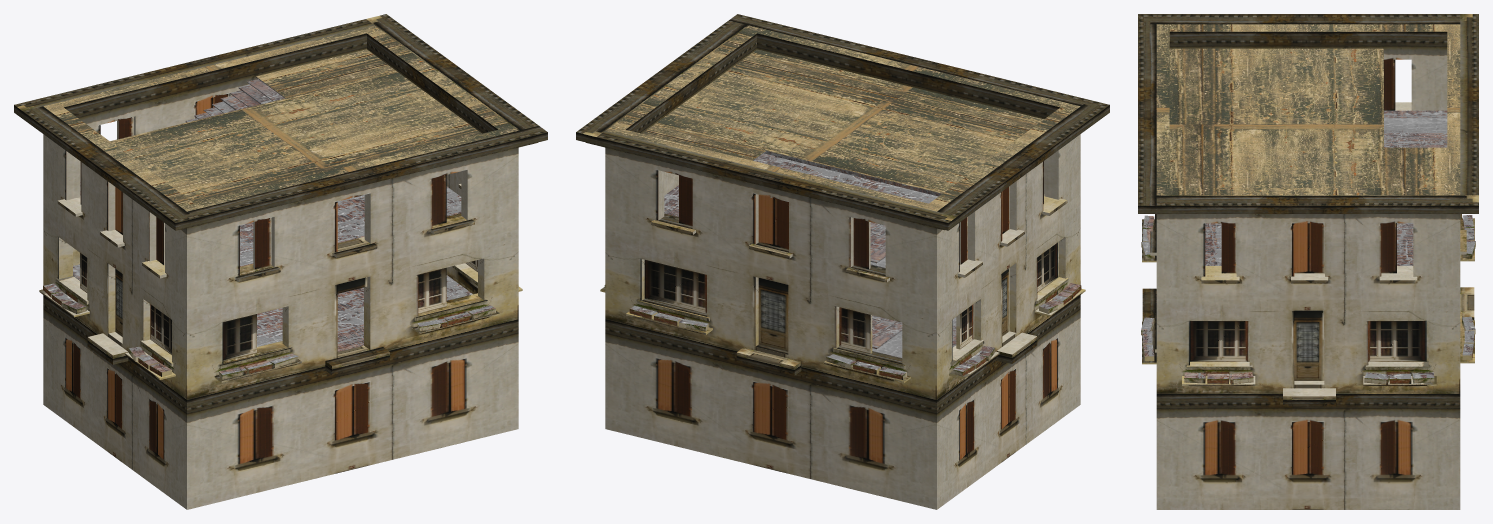
File: BagBuilding19High.fbx
3 renders of one model, left to right at view 1: azimuth 30°, elevation 25°; view 2: azimuth 150°, elevation 25°; view 3: azimuth 270°, elevation 25°, orthographic. The views are drawn at different scales.
Parts seen in each view (by area): view 1: mainA300, roofA300, stairsA300; view 2: mainA300, roofA300, stairsA300; view 3: mainA300, roofA300, stairsA300.
Part boxes in pixels (left/top/right/bottom): mainA300: left=14, top=14, right=547, bottom=509; roofA300: left=43, top=25, right=518, bottom=211; stairsA300: left=43, top=77, right=495, bottom=375; mainA300: left=576, top=14, right=1109, bottom=509; roofA300: left=605, top=25, right=1080, bottom=211; stairsA300: left=630, top=151, right=1080, bottom=375; mainA300: left=1138, top=14, right=1478, bottom=509; roofA300: left=1156, top=24, right=1460, bottom=195; stairsA300: left=1141, top=110, right=1475, bottom=379.
Size of the model in its own units: 25.12 by 19.23 by 18.88.
